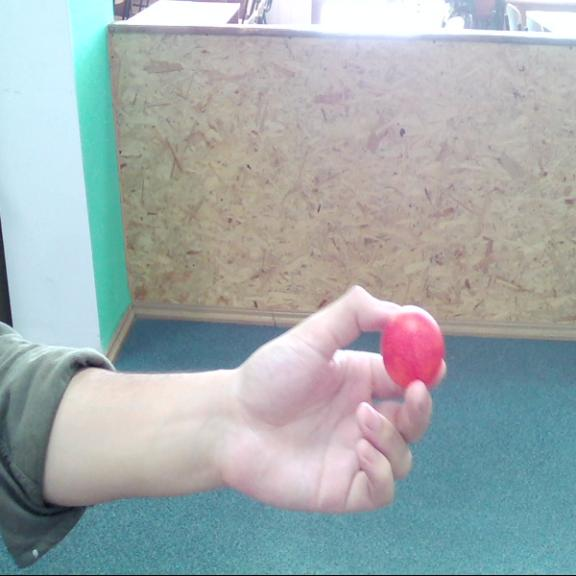ball: (382, 304, 446, 386)
